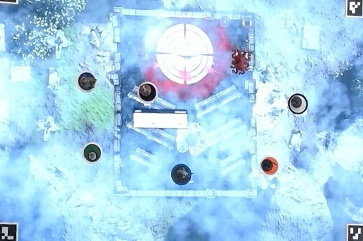black: (136, 82, 159, 105)
blue: (74, 70, 97, 93)
brown_turquoise: (172, 164, 195, 187)
giant_red_octopus: (230, 49, 252, 77)
green: (80, 141, 102, 164)
orange: (257, 155, 280, 178)
white: (287, 92, 310, 115)
